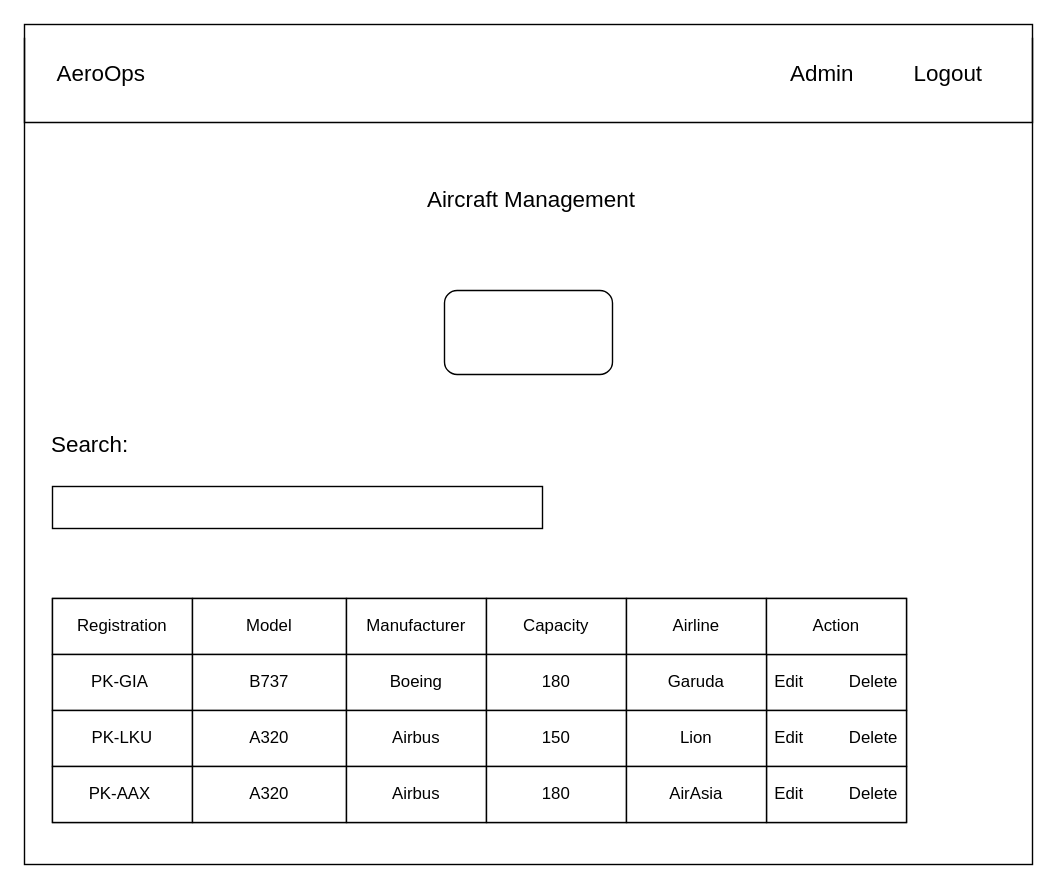
The diagram is 1057 pixels wide and 889 high, and some of its shapes have lost their labels. The shapes that lost their labels are listed below. From the top down, each one's box as (x1, y1, x2, y2) in pixels, then its label:
(443, 289, 612, 374): Add Aircraft
(51, 485, 542, 528): Search aircraft...
